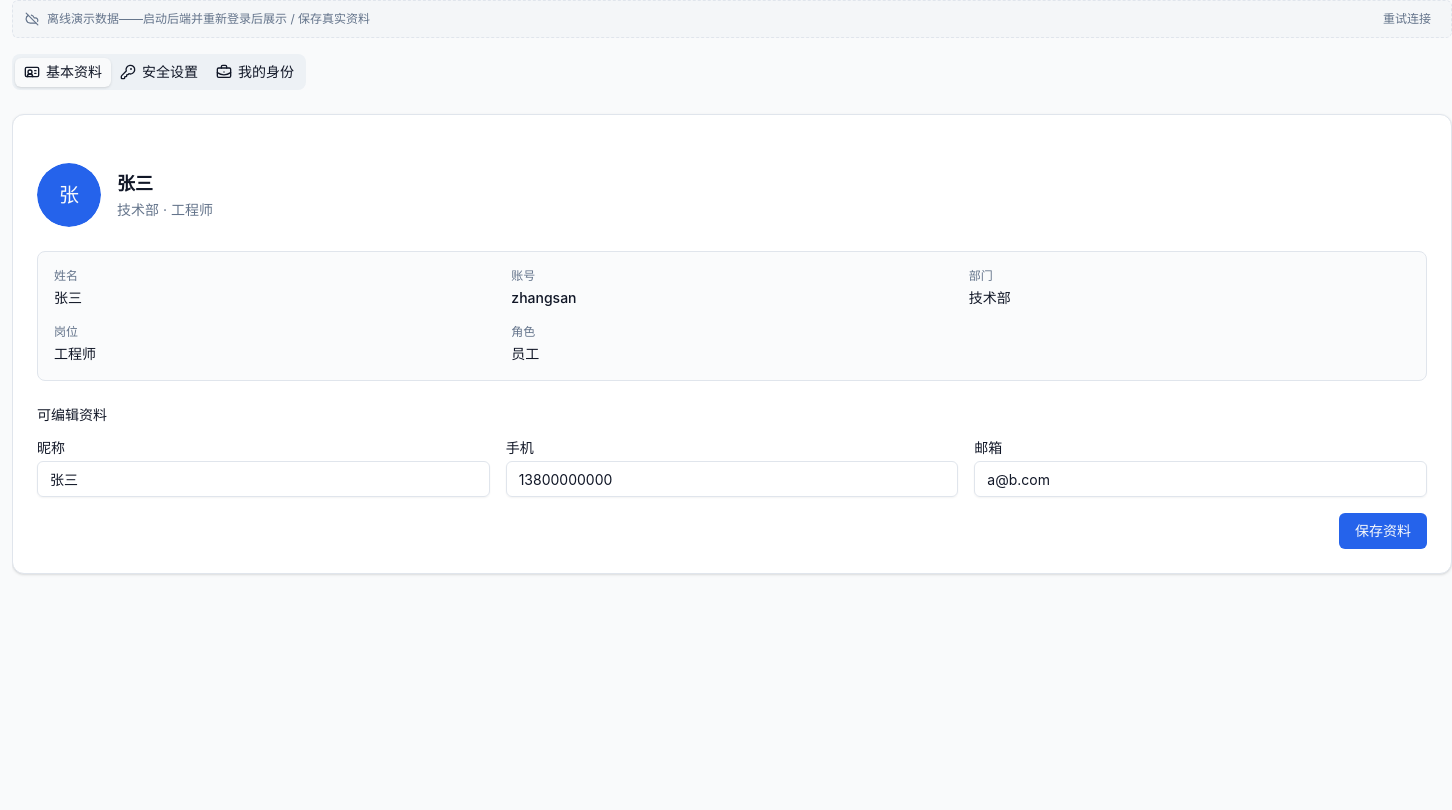
Test case: 个人中心 › offline → 三 Tab 渲染 + 我的身份列出 assignments + 安全设置显示改密表单
The width and height of the screenshot is (1452, 810).
Expected: the tab "基本资料" is shown, [15,58,111,86]
Expected: the tab "安全设置" is shown, [111,58,207,86]
Note: 我的身份：列出任职
Click the tab "我的身份" at {"x": 255, "y": 72}, box [207,58,303,86]
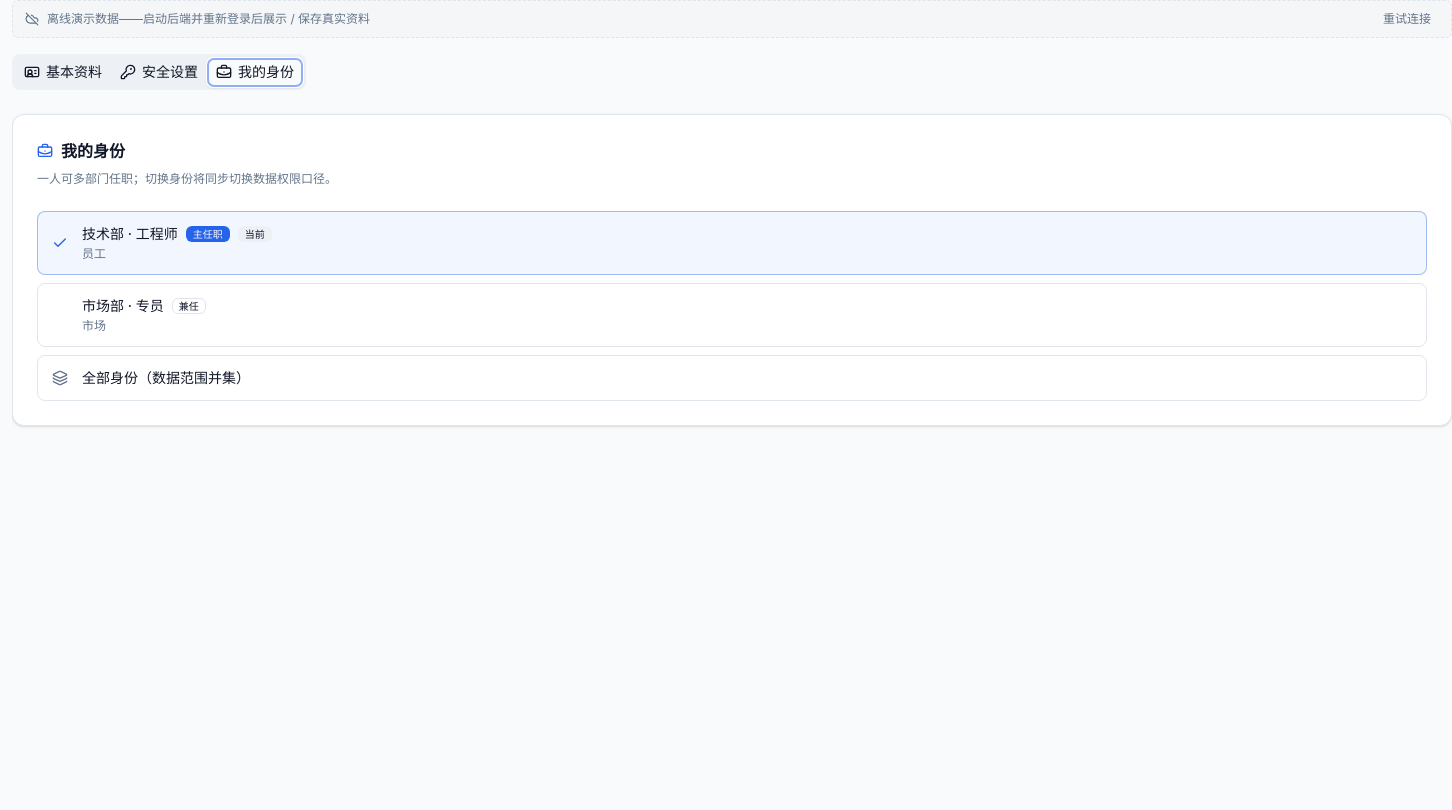
Expected: the text "技术部 · 工程师" is shown, [82,224,178,244]
Result: the text "市场部 · 专员" is shown at [82,296,164,316]
Note: 安全设置：改密表单
Click the tab "安全设置" at {"x": 159, "y": 72}, box [111,58,207,86]
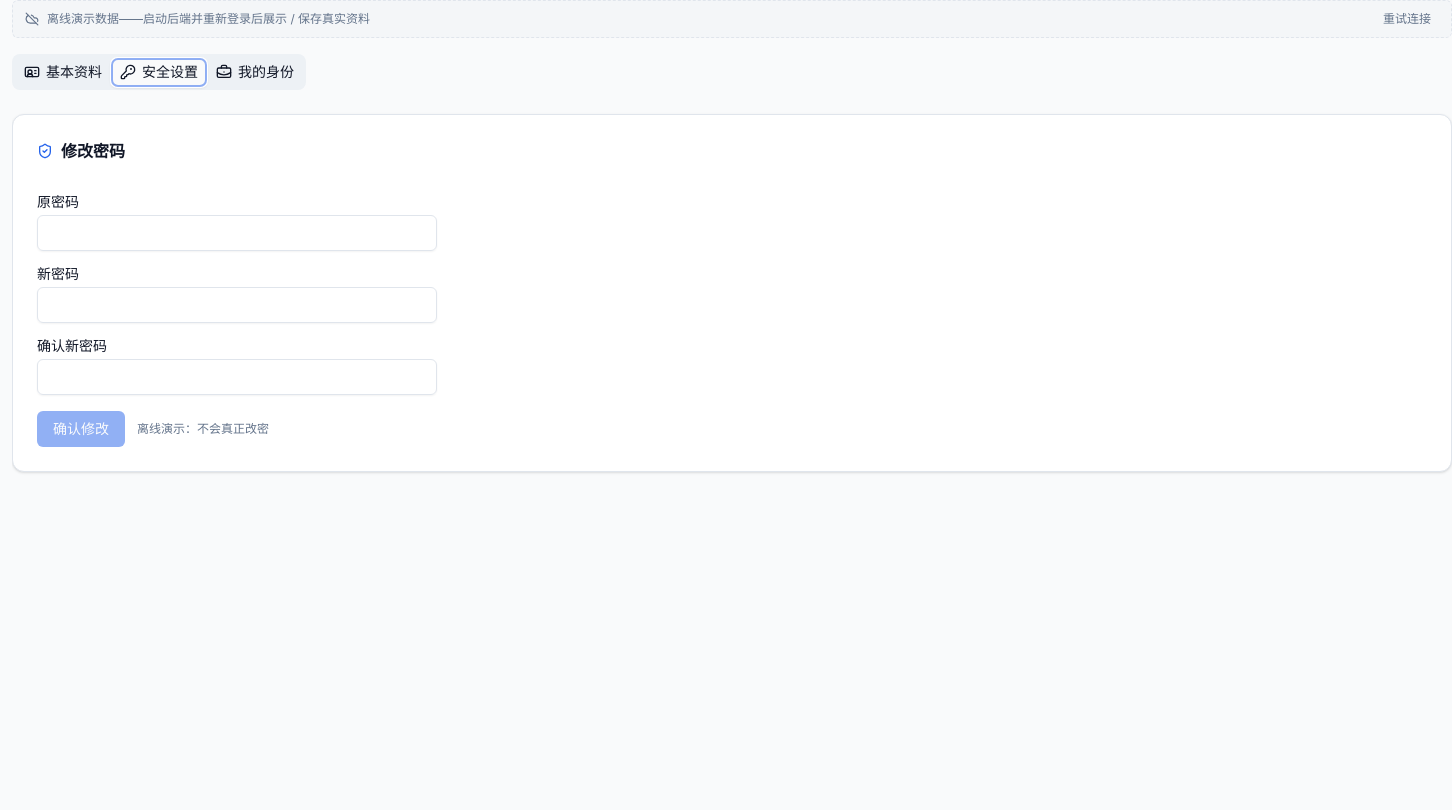
Result: the password field labelled "原密码" is shown at [37,215,437,251]
Result: the password field labelled "确认新密码" is shown at [37,359,437,395]
